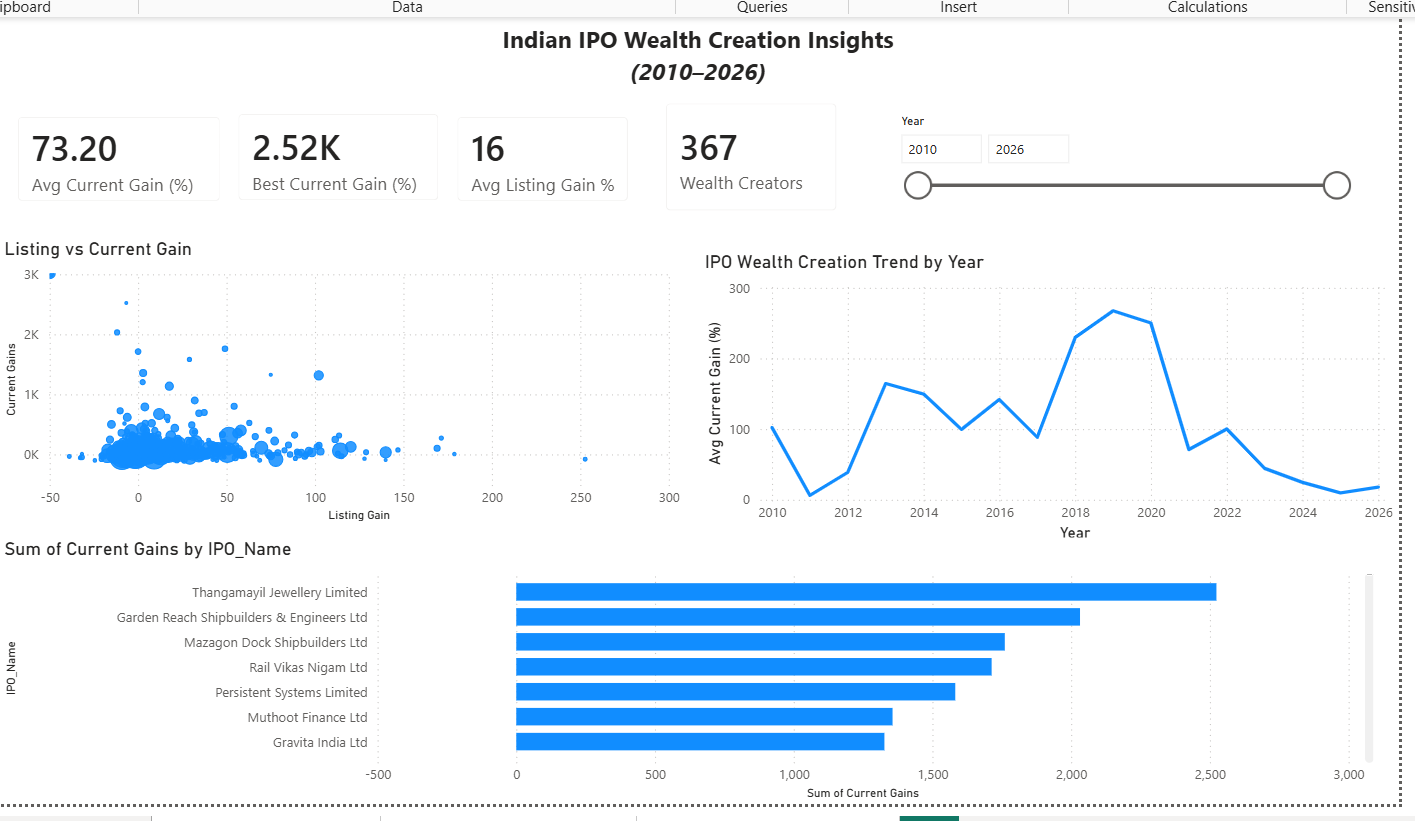

This screenshot's page, from the dashboard's own definition file:
{"tool":"powerbi","page":{"name":"Wealth Creation Analysis","canvas":[1280,720],"ordinal":2},"visuals":[{"type":"cardVisual","fields":{"Data":["Sheet1.Avg Current Gain"]},"box":[0,73.7,219.2,111.5],"z":0},{"type":"cardVisual","fields":{"Data":["Sheet1.Best Current Gain"]},"box":[202.2,71.8,217.3,113.4],"z":1000},{"type":"cardVisual","fields":{"Data":["Sheet1.Avg Listing Gain"]},"box":[402.5,73.7,190.9,111.5],"z":2000},{"type":"cardVisual","fields":{"Data":["Sheet1.Wealth Creators"]},"box":[593.4,62.4,190.9,132.3],"z":3000},{"type":"scatterChart","title":"Listing vs Current Gain","fields":{"X":["Sheet1.Listing Gain"],"Y":["Sheet1.Current Gains"],"Size":["Sum(Sheet1.Issue_Size(crores))"]},"box":[0,202.2,627.4,264.6],"z":4000},{"type":"lineChart","title":" IPO Wealth Creation Trend by Year            ","fields":{"Category":["Sheet1.Date.Variation.Date Hierarchy.Year"],"Y":["Sheet1.Avg Current Gain"]},"box":[640.6,213.5,638.7,270.2],"z":5000},{"type":"slicer","fields":{"Values":["Sheet1.Date.Variation.Date Hierarchy.Year"]},"box":[812.6,83.2,432.8,90.7],"z":6000},{"type":"textbox","box":[0,0,1279.4,73.7],"z":7000},{"type":"clusteredBarChart","fields":{"Y":["Sum(Sheet1.Current Gains)"],"Category":["Sheet1.IPO_Name"]},"box":[0,476.2,1262.4,243.8],"z":8000}]}

Visuals, with their boxes on the page's 1280x720 design canvas (x1, y1, x2, y2). These are canvas units, not pixel positions in the 1415x821 screenshot, which may show the page scaled, cropped or inside an application window:
cardVisual - Sheet1.Avg Current Gain: bbox(0, 74, 219, 185)
cardVisual - Sheet1.Best Current Gain: bbox(202, 72, 420, 185)
cardVisual - Sheet1.Avg Listing Gain: bbox(402, 74, 593, 185)
cardVisual - Sheet1.Wealth Creators: bbox(593, 62, 784, 195)
"Listing vs Current Gain" scatterChart: bbox(0, 202, 627, 467)
" IPO Wealth Creation Trend by Year            " lineChart: bbox(641, 214, 1279, 484)
slicer - Sheet1.Date.Variation.Date Hierarchy.Year: bbox(813, 83, 1245, 174)
textbox: bbox(0, 0, 1279, 74)
clusteredBarChart - Sum(Sheet1.Current Gains) x Sheet1.IPO_Name: bbox(0, 476, 1262, 720)
